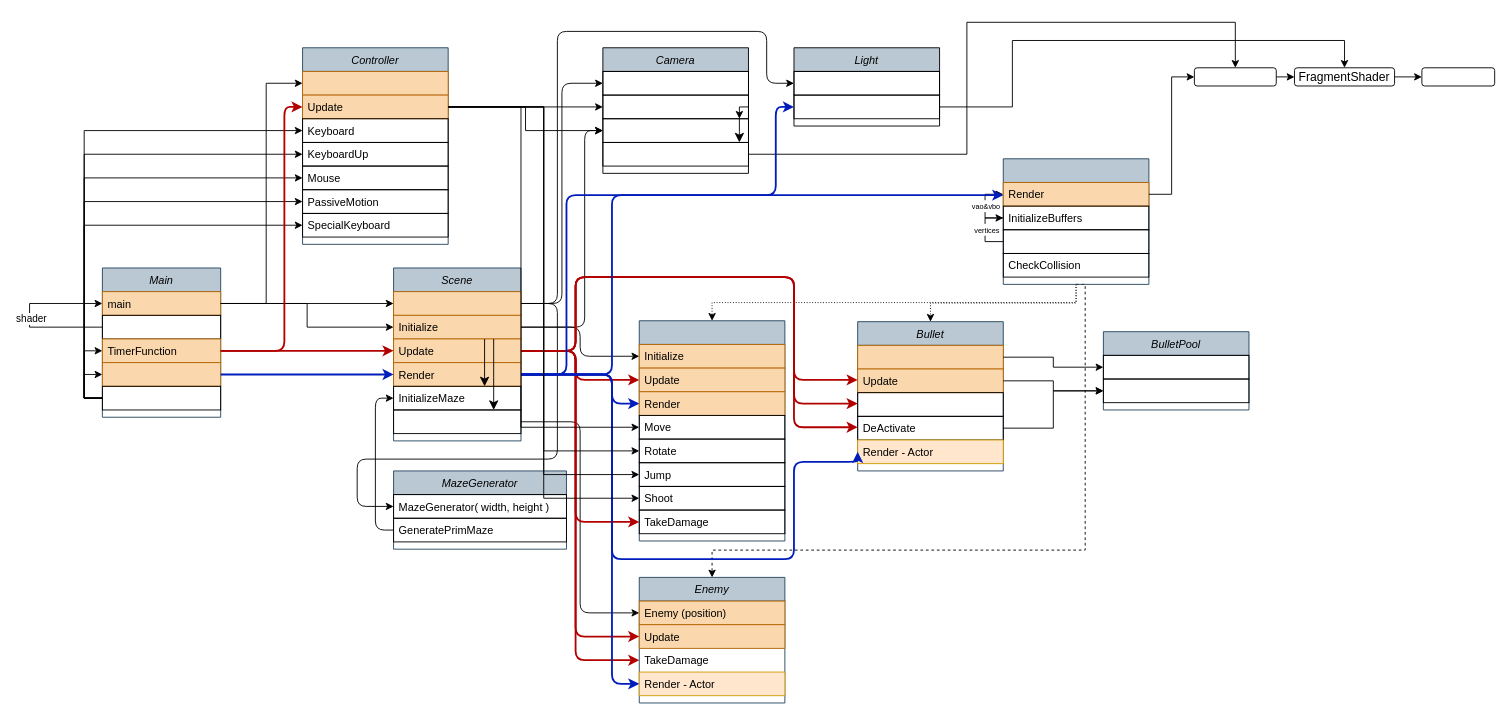
The diagram is 1511 pixels wide and 719 high, and some of its shapes have lost their labels. Here are the shapes that lost their labels. From the top down, the box of each, then its label:
(302, 71, 448, 95): Controller (scene, camera)
(602, 71, 748, 95): Camera ( )
(793, 71, 940, 95): Light ( )
(1193, 67, 1276, 86): VertexShader
(1421, 67, 1495, 86): Screen
(602, 94, 748, 119): FirstPersonView
(793, 94, 940, 119): ApplyLighting
(602, 118, 748, 142): TopView
(602, 142, 748, 166): UpdateViewProjection
(1002, 158, 1149, 284): Actor
(1002, 229, 1149, 253): LoadObj
(393, 291, 521, 315): Scene (shaderProgrm)
(101, 314, 221, 339): MakeShaderProgram
(101, 362, 221, 386): drawScene
(857, 344, 1003, 369): Bullet ( )
(1102, 354, 1249, 379): BulletPool (size)
(101, 385, 221, 410): glut...Func
(857, 392, 1003, 416): Activate
(1102, 378, 1249, 403): UpdateAllBullets
(393, 409, 521, 434): InitializeEnemies
(638, 320, 785, 541): Character
